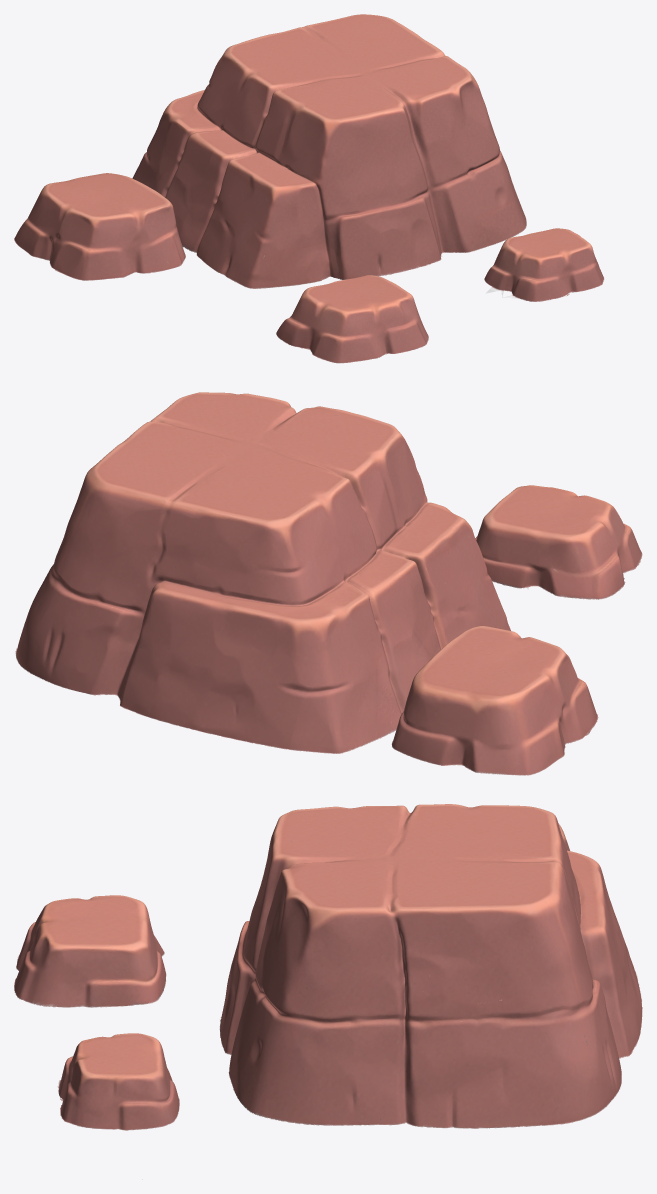
File: granite-rock-islet-bare-01.glb
3 views of the same model, one above another, from view 1: azimuth 30°, elevation 25°; view 2: azimuth 150°, elevation 25°; view 3: azimuth 270°, elevation 25° (orthographic). The views are drawn at different scales.
Bounding box in the file's own units: 1.6 × 0.5108 × 1.42.
Materials: 1 (1 with a texture image).
